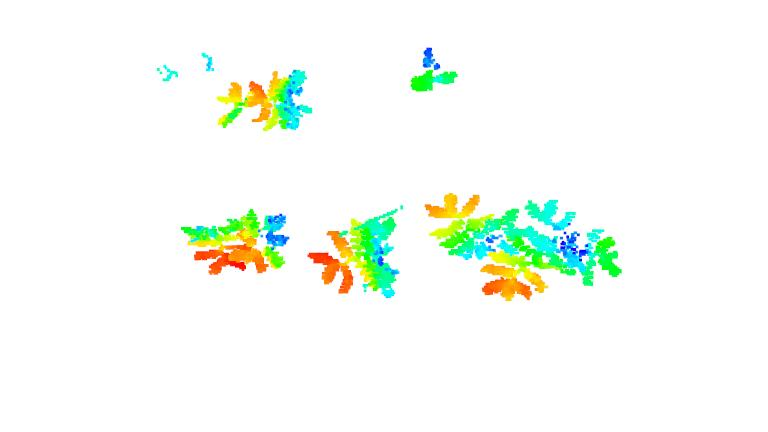chickpea: (481, 199, 629, 300), (305, 214, 402, 300), (217, 67, 311, 133), (423, 191, 498, 260), (229, 209, 294, 272), (181, 217, 247, 276), (406, 64, 460, 95)
